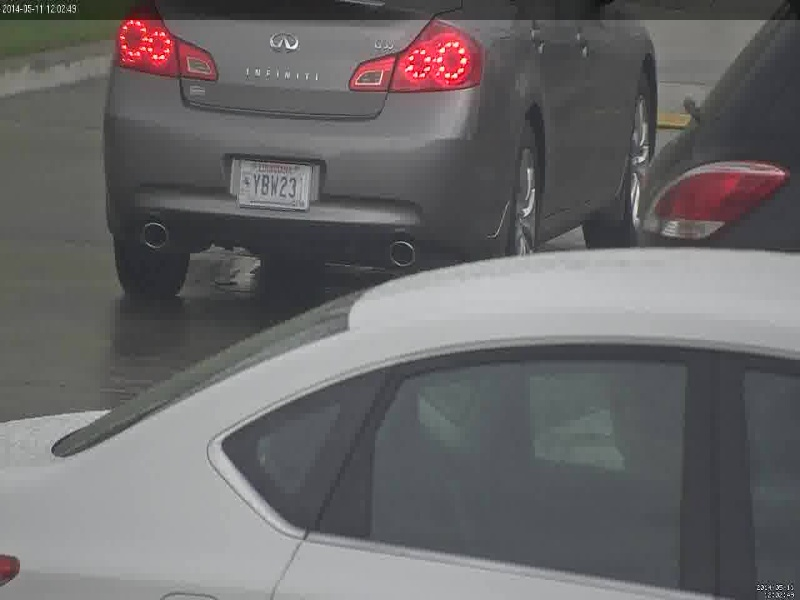licence plate: (235, 162, 313, 212)
